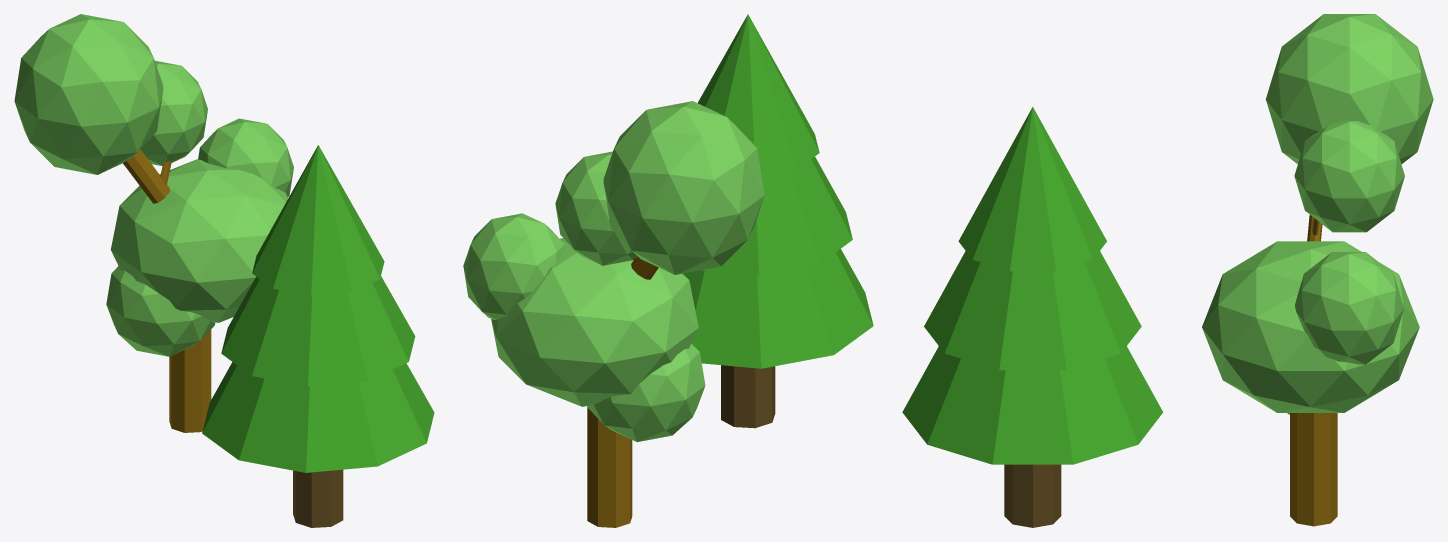
The model's file is witwitan.fbx.
3 renders of one model, left to right at view 1: azimuth 30°, elevation 25°; view 2: azimuth 150°, elevation 25°; view 3: azimuth 270°, elevation 25°, orthographic. The views are drawn at different scales.
Parts seen in each view (by area): view 1: pohon2, pohon1; view 2: pohon2, pohon1; view 3: pohon2, pohon1.
Boxes of the visible parts, left/top/right/bottom form: pohon2: left=14, top=14, right=293, bottom=432; pohon1: left=202, top=145, right=434, bottom=527; pohon2: left=463, top=101, right=764, bottom=527; pohon1: left=683, top=14, right=873, bottom=428; pohon2: left=1202, top=14, right=1433, bottom=526; pohon1: left=902, top=107, right=1163, bottom=527.
Size of the model in its own units: 422 by 643 by 681.
